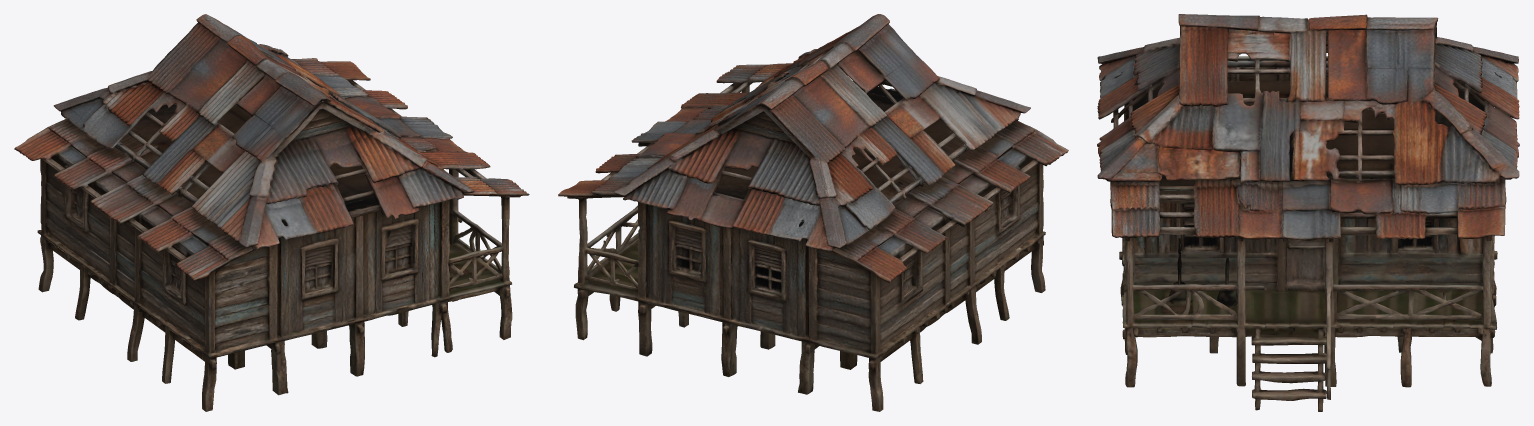
Rendered from ab7a4f25-1aaa-414e.glb.
The picture shows the model from 3 angles, left to right: view 1: azimuth 30°, elevation 25°; view 2: azimuth 150°, elevation 25°; view 3: azimuth 270°, elevation 25°; orthographic projection. The views are drawn at different scales.
Visible parts, largest first — view 1: tripo_node_ab7a4f25-1aaa-4b91-adc5-c4f67217fb8d; view 2: tripo_node_ab7a4f25-1aaa-4b91-adc5-c4f67217fb8d; view 3: tripo_node_ab7a4f25-1aaa-4b91-adc5-c4f67217fb8d.
Boxes of the visible parts, x1=… form: tripo_node_ab7a4f25-1aaa-4b91-adc5-c4f67217fb8d: x1=14, y1=14, x2=529, y2=411; tripo_node_ab7a4f25-1aaa-4b91-adc5-c4f67217fb8d: x1=558, y1=14, x2=1068, y2=411; tripo_node_ab7a4f25-1aaa-4b91-adc5-c4f67217fb8d: x1=1097, y1=14, x2=1519, y2=411.
Size of the model in its own units: 1 by 0.674 by 0.9033.
Materials: 1 (1 with a texture image).
